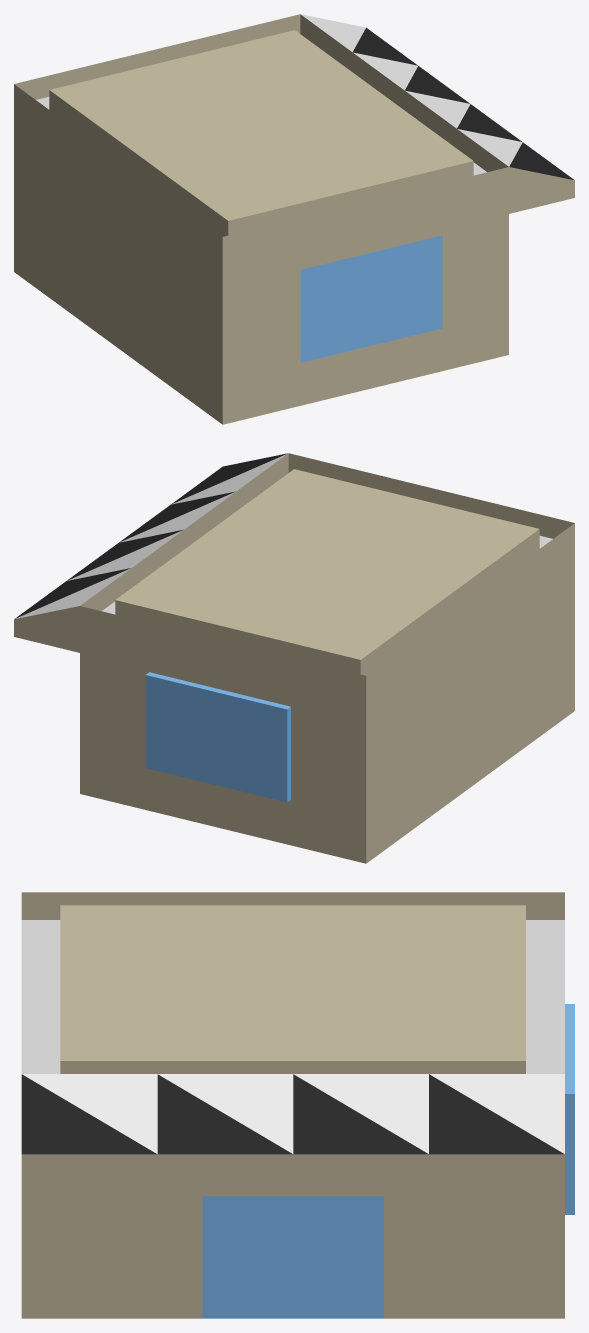
Rendered from newstore.fbx.
3 renders of one model, top to bottom at view 1: azimuth 30°, elevation 25°; view 2: azimuth 150°, elevation 25°; view 3: azimuth 270°, elevation 25°, orthographic. The views are drawn at different scales.
Visible parts, largest first — view 1: Cube; view 2: Cube; view 3: Cube.
Part boxes in pixels (<box>): Cube: <box>14,14,574,424</box>; Cube: <box>14,453,574,863</box>; Cube: <box>21,892,574,1318</box>.
Bounding box in the file's own units: 14.41 × 7.35 × 15.28.
